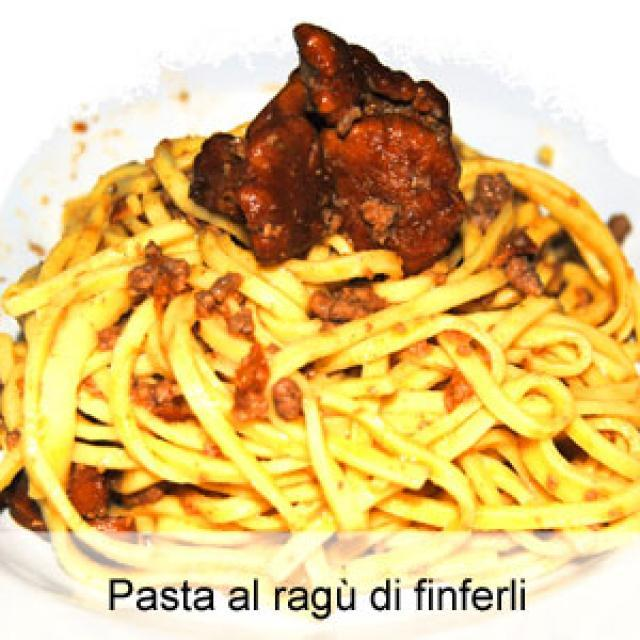Pasta al ragu: (17, 11, 631, 515)
